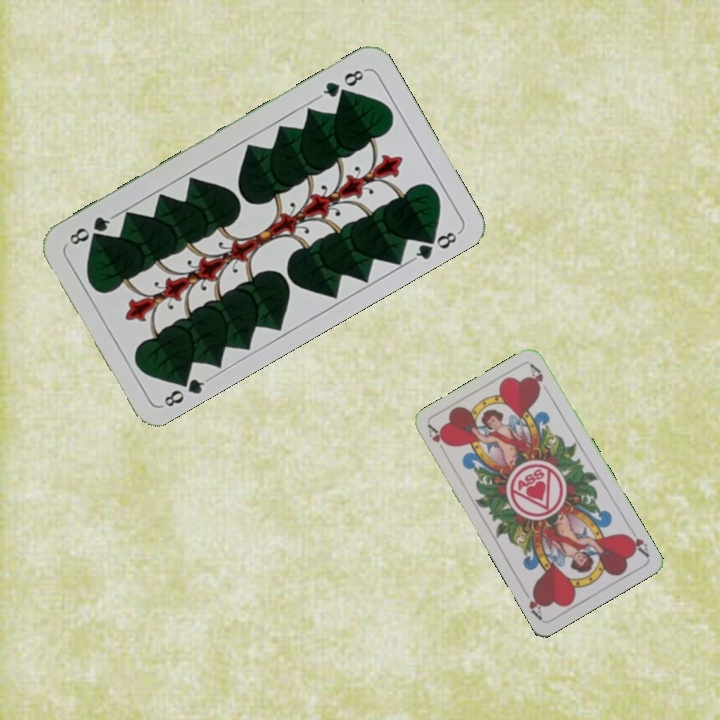G8: (158, 369, 212, 410), (315, 65, 369, 101)
HA: (621, 523, 652, 560), (424, 421, 451, 459)
